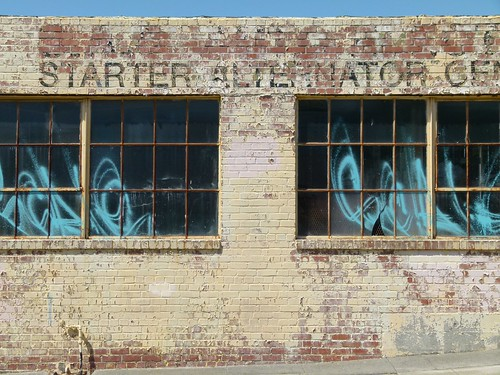building: (1, 17, 500, 370)
graffiti: (327, 146, 500, 233), (1, 155, 173, 242)
window: (283, 95, 500, 239), (1, 93, 217, 237)
